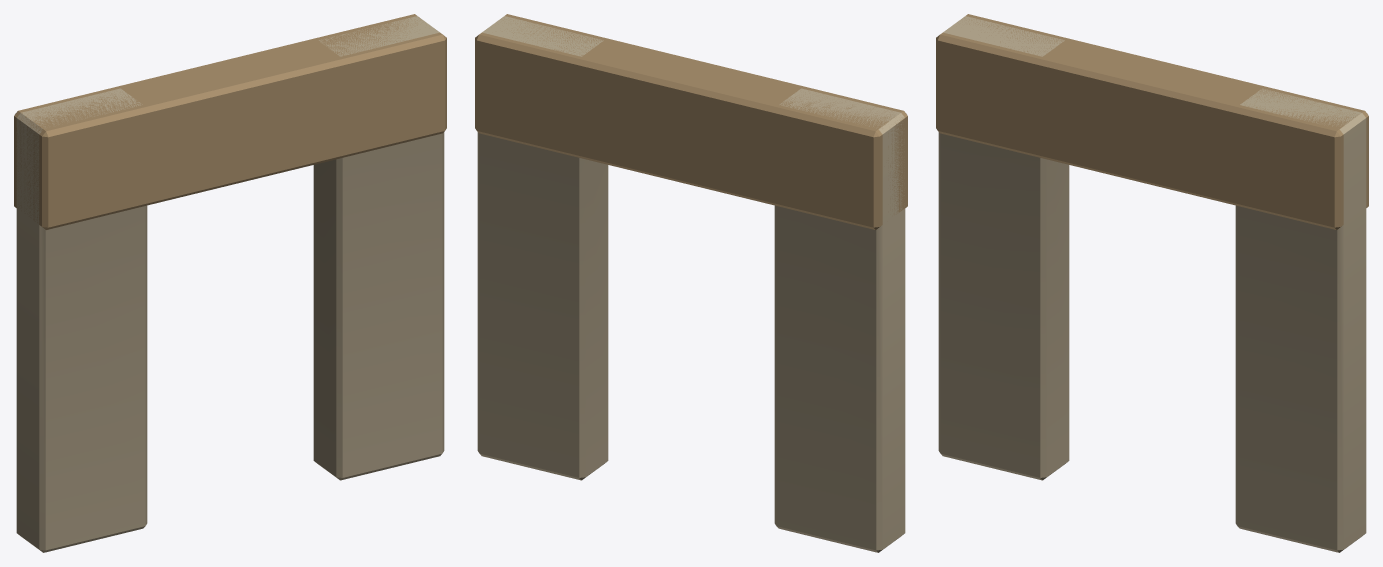
The model's file is doorway.glb.
The picture shows the model from 3 angles, left to right: view 1: azimuth 30°, elevation 25°; view 2: azimuth 150°, elevation 25°; view 3: azimuth 330°, elevation 25°; orthographic projection.
Visible parts, largest first — view 1: doorway; view 2: doorway; view 3: doorway.
Boxes of the visible parts, x1,y1,x2,y2 form: doorway: [14, 14, 446, 552]; doorway: [475, 14, 907, 552]; doorway: [936, 14, 1368, 552].
Bounding box in the file's own units: 3 × 3 × 0.42.
